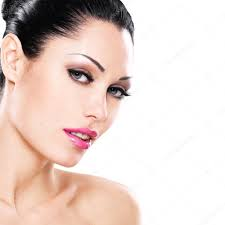white_female: (35, 40, 132, 156)
